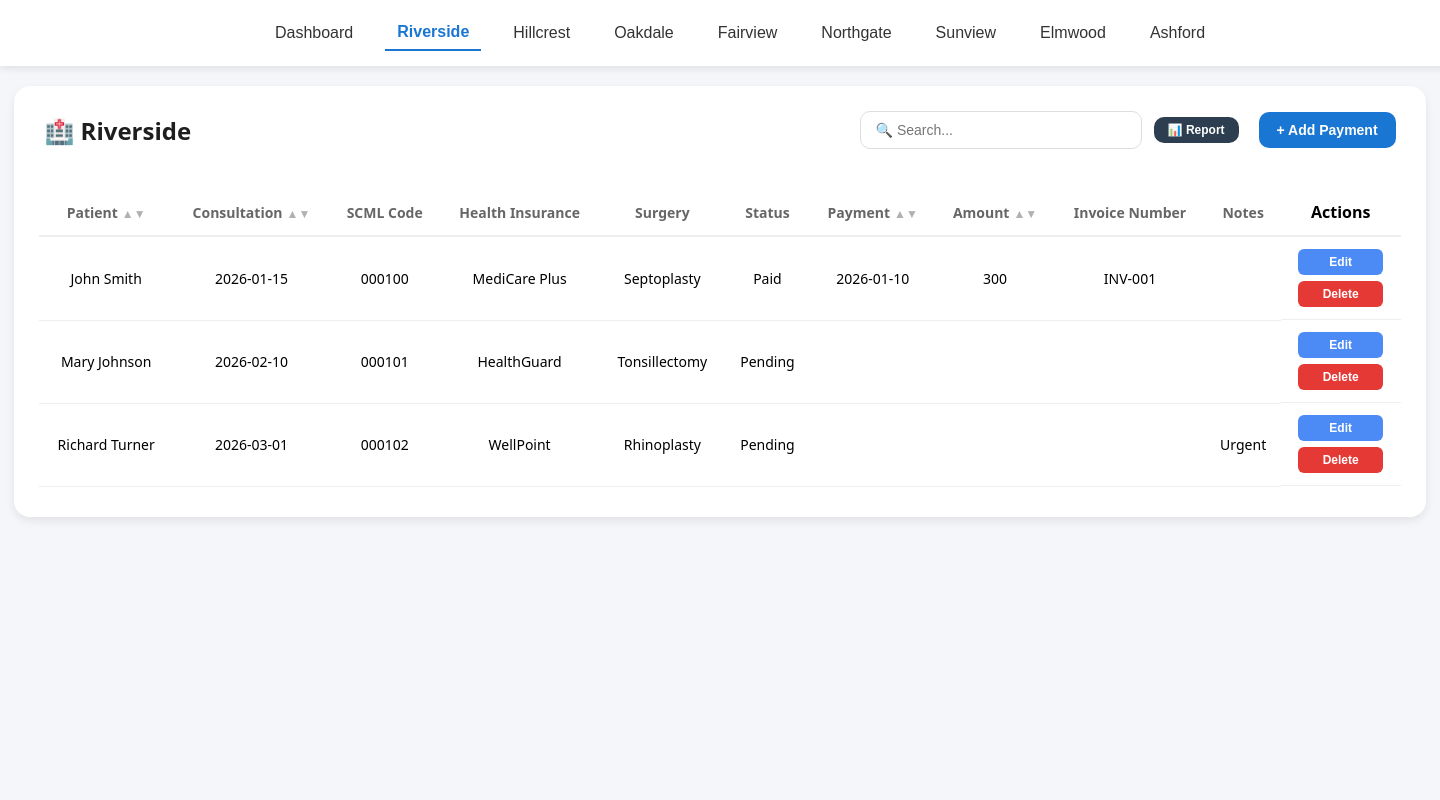
Test: Client CRUD - Riverside › should close the modal when clicking Cancel
The width and height of the screenshot is (1440, 800).
Expected: the table with class "styled-table" is shown, [39, 189, 1400, 487]
Click the button "Delete" in the row of "John Smith": [1341, 294] box [1298, 281, 1383, 307]
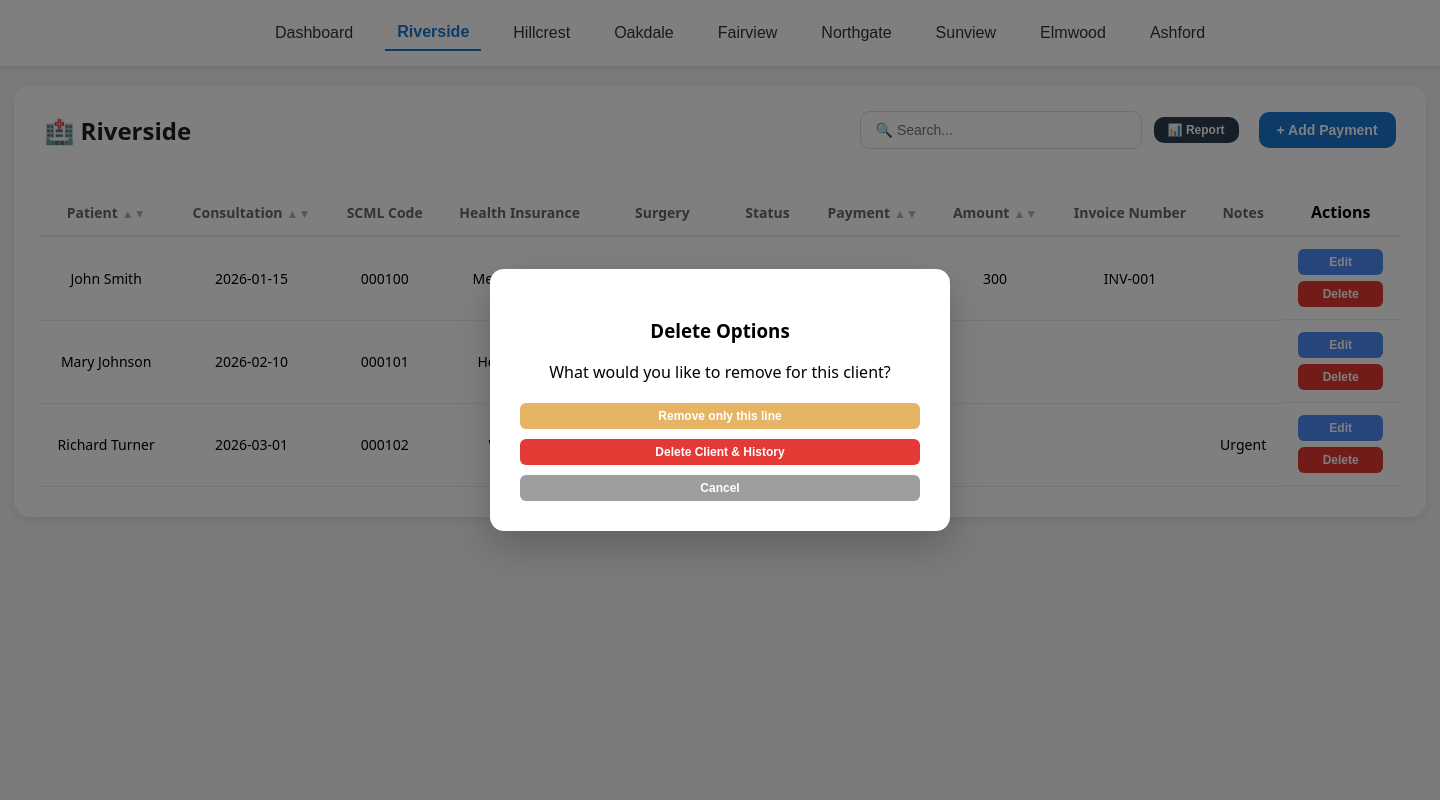
Click the button "Cancel": [720, 488] box [520, 475, 920, 501]
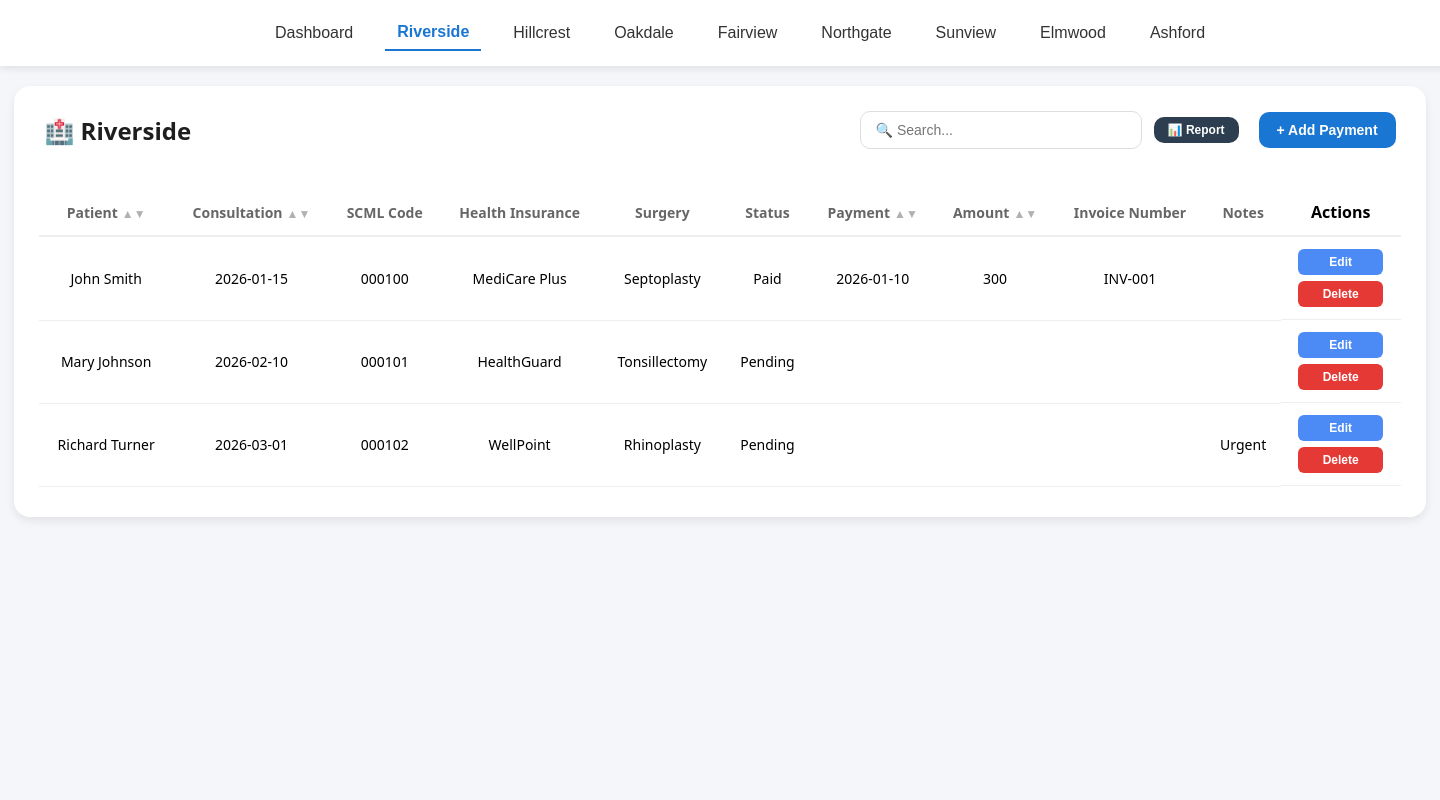
Now the element with class "modal-backdrop" is gone
